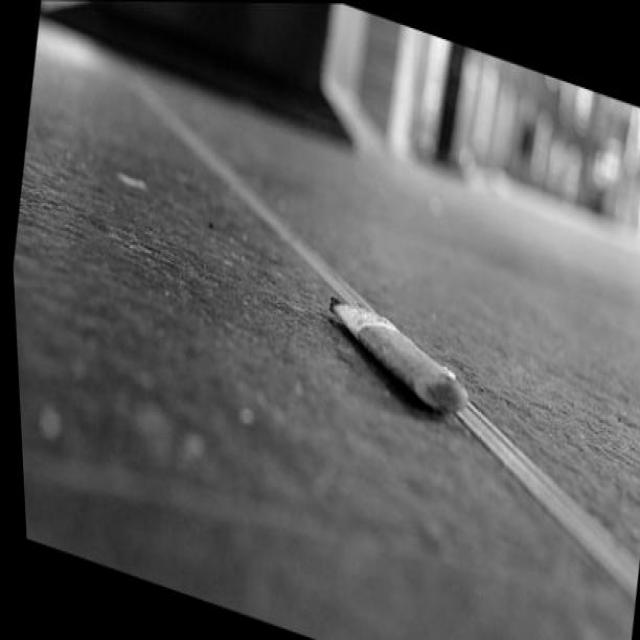cigarette: (317, 286, 478, 426)
